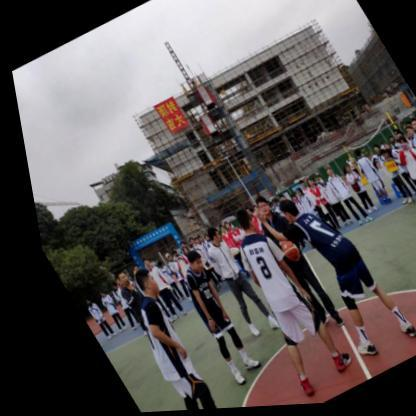basketball: (269, 241, 295, 267)
